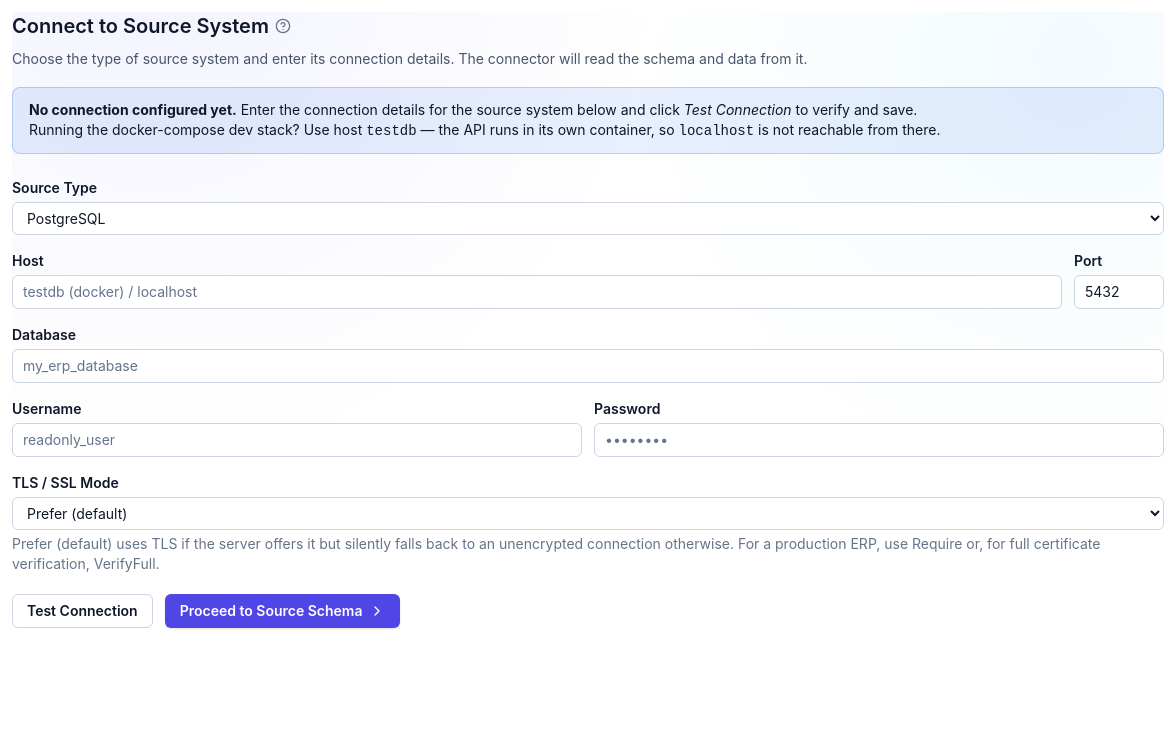
ConnectionView › shows port validation error for out-of-range value
This screenshot has width=1176, height=732.
Type "99999" into the field labelled "Port" at x=1119, y=292, box [1074,275,1164,309]
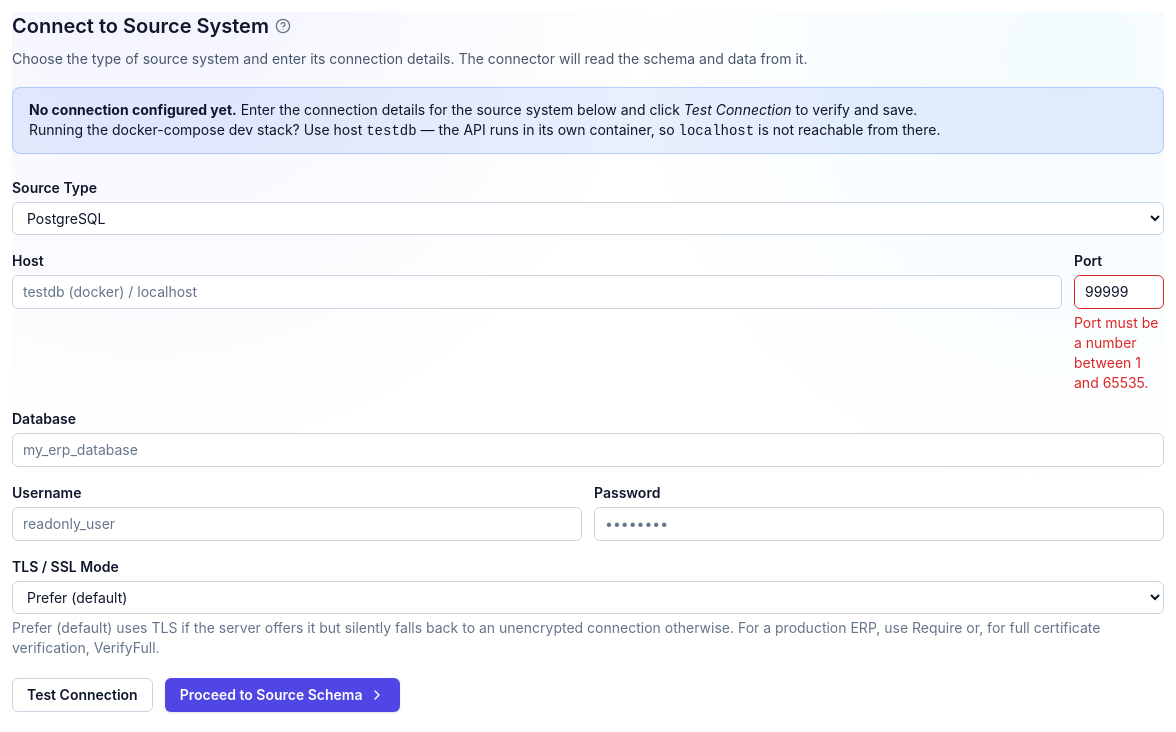
Expected: the text "Port must be a number between 1 and 65535" is shown, [1074,314,1158,391]
